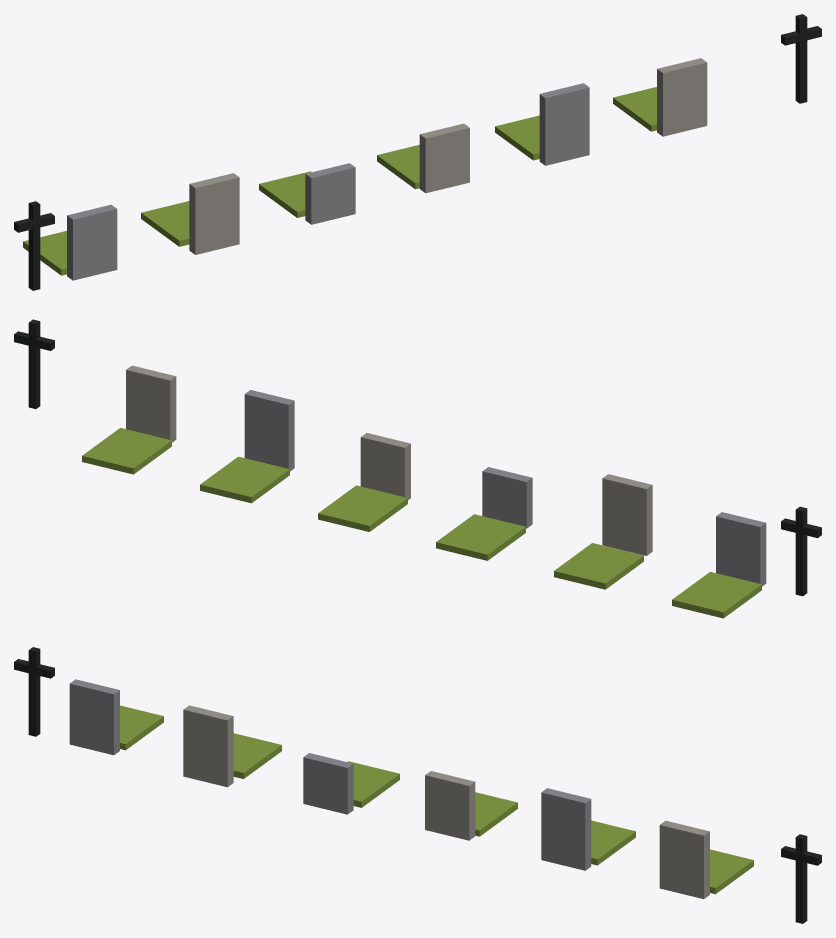
File: gravstenar.glb
The picture shows the model from 3 angles, top to bottom: view 1: azimuth 30°, elevation 25°; view 2: azimuth 150°, elevation 25°; view 3: azimuth 330°, elevation 25°; orthographic projection.
Parts seen in each view (by area): view 1: gravstenar; view 2: gravstenar; view 3: gravstenar.
Part boxes in pixels (bbox=[...]): gravstenar: bbox=[14, 14, 821, 290]; gravstenar: bbox=[14, 319, 821, 618]; gravstenar: bbox=[14, 647, 821, 923].
Bounding box in the file's own units: 10.9 × 1.1 × 1.19.
